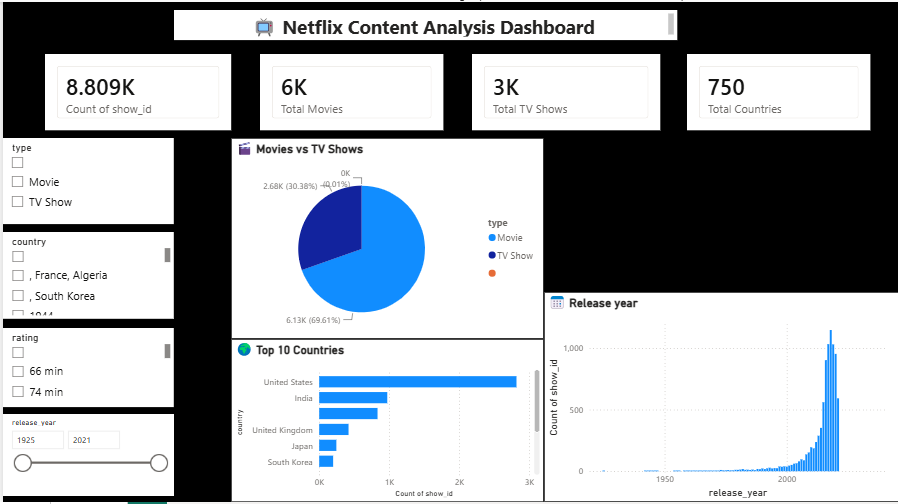

This screenshot's page, from the dashboard's own definition file:
{"tool":"powerbi","page":{"name":"Page 2","canvas":[1280,720],"ordinal":1},"visuals":[{"type":"cardVisual","fields":{"Data":["netflix_titles.Total Movies"]},"box":[367.2,80.6,262.1,109.4],"z":0},{"type":"cardVisual","fields":{"Data":["netflix_titles.Total TV Shows"]},"box":[669.6,80.6,269.3,109.4],"z":1000},{"type":"cardVisual","fields":{"Data":["netflix_titles.Total Countries"]},"box":[977.8,80.6,262.1,109.4],"z":2000},{"type":"textbox","box":[244.8,17.3,718.6,43.2],"z":3000},{"type":"slicer","fields":{"Values":["netflix_titles.type"]},"box":[60.5,199.9,267.1,114.2],"z":4000},{"type":"slicer","fields":{"Values":["netflix_titles.country"]},"box":[60.5,324.2,267.8,132.5],"z":5000},{"type":"slicer","fields":{"Values":["netflix_titles.release_year"]},"box":[60.5,596.3,267.8,112.3],"z":6000},{"type":"slicer","fields":{"Values":["netflix_titles.rating"]},"box":[60.5,473.7,267.8,112.3],"z":7000},{"type":"pieChart","title":"🎬 Movies vs TV Shows","fields":{"Category":["netflix_titles.type"],"Y":["CountNonNull(netflix_titles.type)"]},"box":[669.6,200.2,329.8,257.8],"z":8000},{"type":"clusteredBarChart","title":"🌍 Top 10 Countries","fields":{"Category":["netflix_titles.country"],"Y":["CountNonNull(netflix_titles.show_id)"]},"box":[475.2,473.8,332.6,246.2],"z":9000},{"type":"columnChart","title":"📅 Release year","fields":{"Category":["netflix_titles.release_year"],"Y":["CountNonNull(netflix_titles.show_id)"]},"box":[841,473.8,432,246.2],"z":10000},{"type":"cardVisual","fields":{"Data":["CountNonNull(netflix_titles.show_id)"]},"box":[60.5,80.6,266.4,109.4],"z":11000}]}

Visuals, with their boxes in screenshot pixels (x1, y1, x2, y2), scaled from the page's 1280x720 canvas onto the 898x504 screenshot:
cardVisual - netflix_titles.Total Movies: (258, 56, 441, 133)
cardVisual - netflix_titles.Total TV Shows: (470, 56, 659, 133)
cardVisual - netflix_titles.Total Countries: (686, 56, 870, 133)
textbox: (172, 12, 676, 42)
slicer - netflix_titles.type: (42, 140, 230, 220)
slicer - netflix_titles.country: (42, 227, 230, 320)
slicer - netflix_titles.release_year: (42, 417, 230, 496)
slicer - netflix_titles.rating: (42, 332, 230, 410)
"🎬 Movies vs TV Shows" pieChart: (470, 140, 701, 321)
"🌍 Top 10 Countries" clusteredBarChart: (333, 332, 567, 503)
"📅 Release year" columnChart: (590, 332, 893, 503)
cardVisual - CountNonNull(netflix_titles.show_id): (42, 56, 229, 133)
